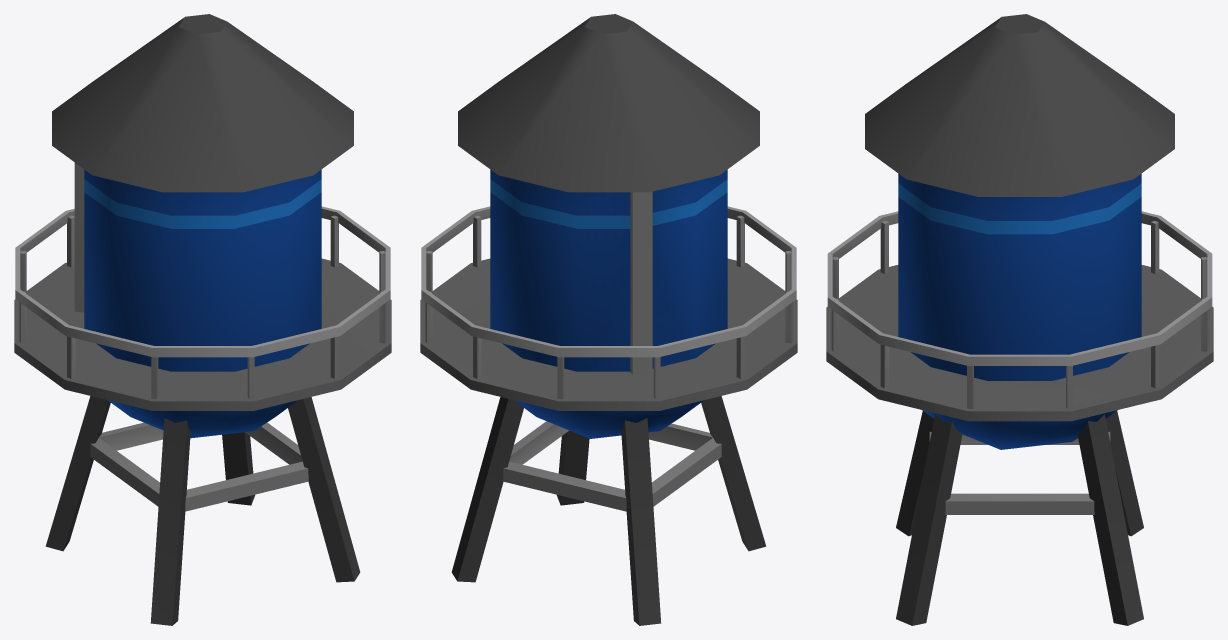
File: tower_008.glb
The picture shows the model from 3 angles, left to right: view 1: azimuth 30°, elevation 25°; view 2: azimuth 150°, elevation 25°; view 3: azimuth 270°, elevation 25°; orthographic projection. The views are drawn at different scales.
Parts seen in each view (by area): view 1: tower_008; view 2: tower_008; view 3: tower_008.
Part boxes in pixels (x1,y1,x2,y2): tower_008: [14, 14, 391, 625]; tower_008: [420, 14, 797, 625]; tower_008: [826, 14, 1213, 625].
Bounding box in the file's own units: 4.97 × 7.81 × 4.97.
1 material, 1 textured.
